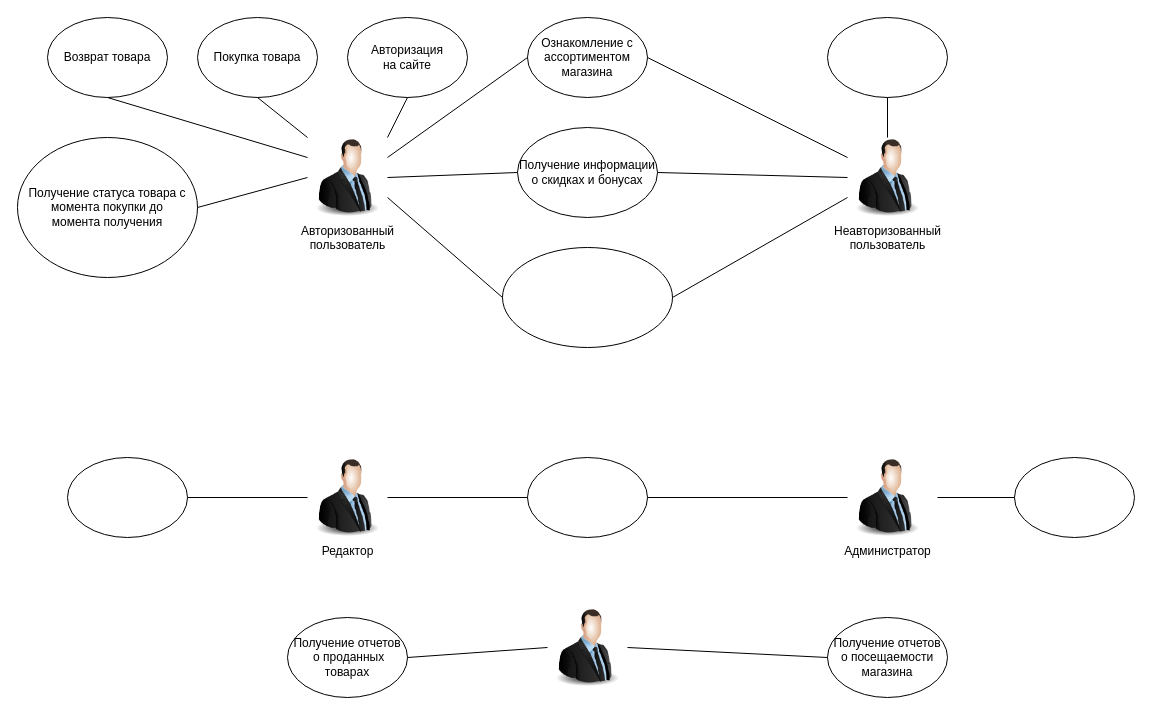
This 1152x726 diagram has some shape labels left out. Here are the shapes that lost their labels. From the top down, the box of each, then its label:
(826, 16, 948, 98): Регистрация на сайте
(502, 246, 672, 348): Получение справочной информациио взаимодействиис магазином
(66, 456, 188, 538): Подтверждение заказа пользователя
(526, 456, 648, 538): Редакция информации о товарах
(1014, 456, 1134, 538): Добавление товаров в магазин
(547, 607, 627, 687): Руководитель
